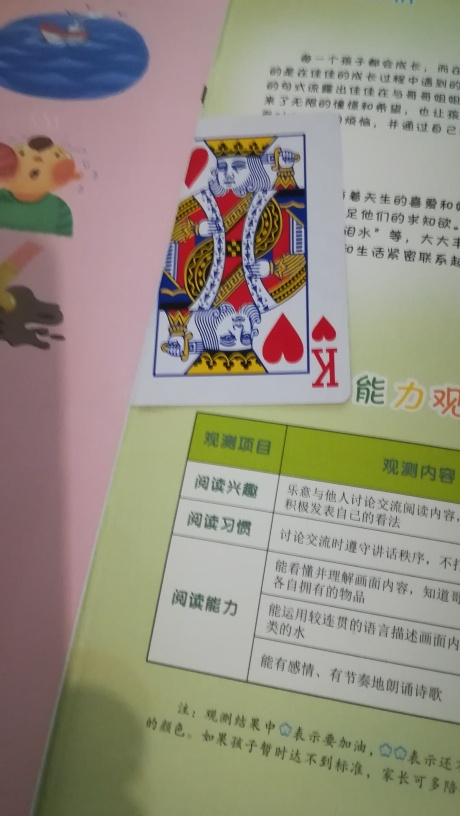hx k: (103, 96, 349, 407)
